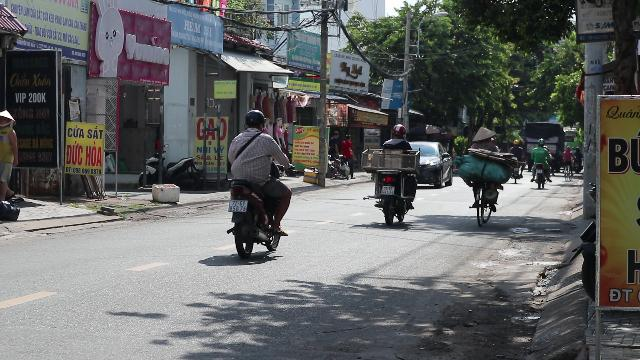helmet: (243, 109, 265, 129), (390, 124, 406, 138)
licenseplate: (229, 200, 247, 210), (381, 186, 395, 194)
motorcyclist: (223, 107, 293, 258), (360, 123, 420, 225)
